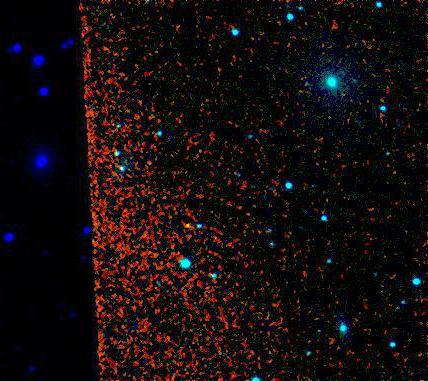star: (173, 210, 203, 240)
